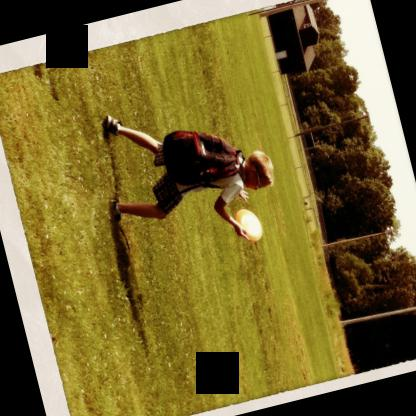backpack: (161, 126, 246, 190)
